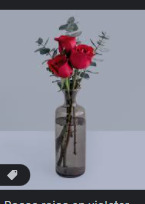RedRose: (47, 53, 74, 80), (54, 33, 78, 59), (71, 45, 95, 68)
